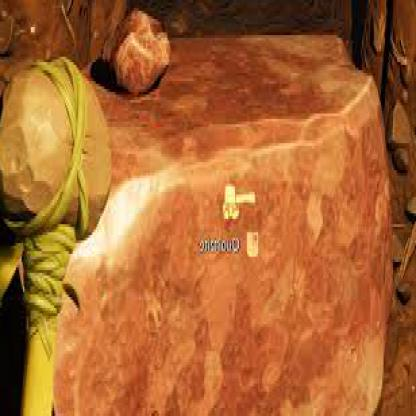Metamorphic_Quartize: (108, 22, 400, 413)
